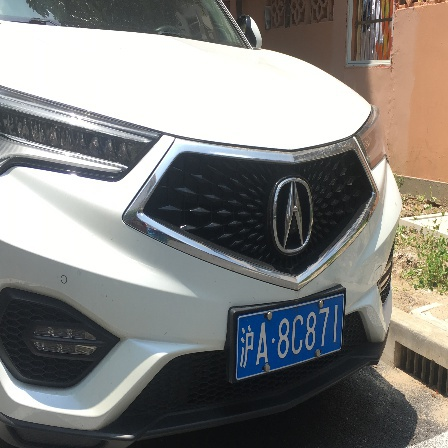plate: (229, 292, 350, 372)
